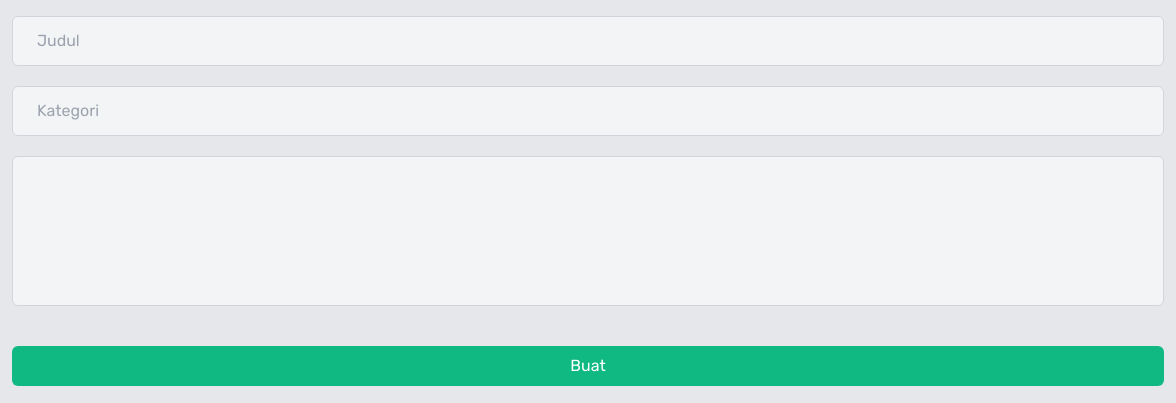
Test: ThreadInput component › should handle body typing correctly
This screenshot has width=1176, height=403.
Click the text box with test id "bodyEditable": [588, 231] box [12,156,1164,306]
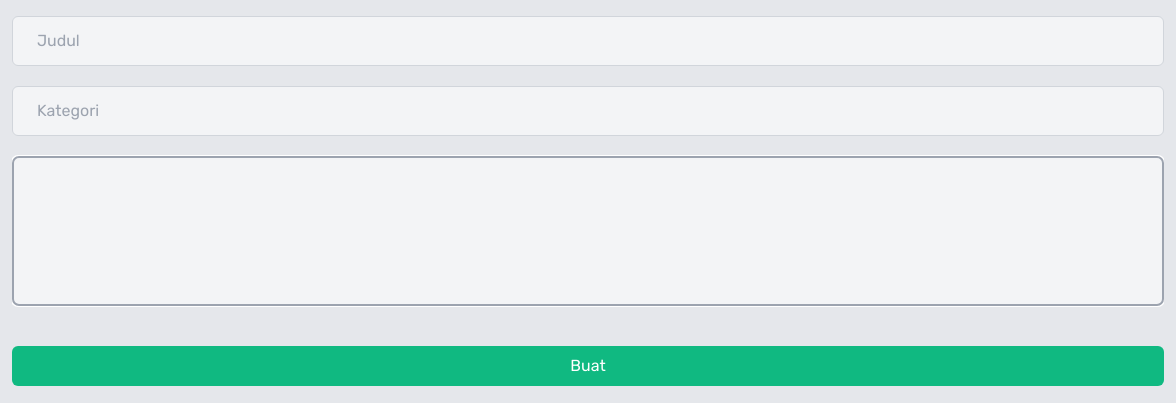
Type keys "apcb"
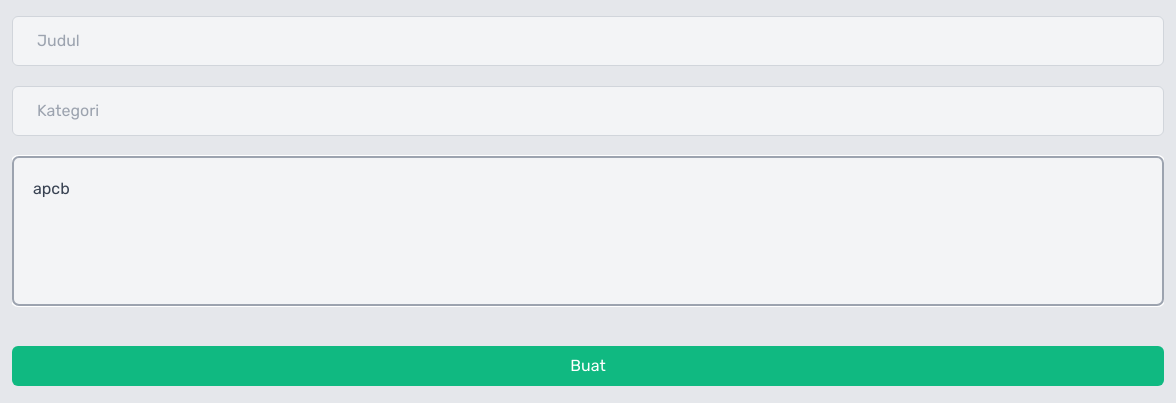
Check: the text box with test id "bodyEditable" reads "apcb", box [12,156,1164,306]
